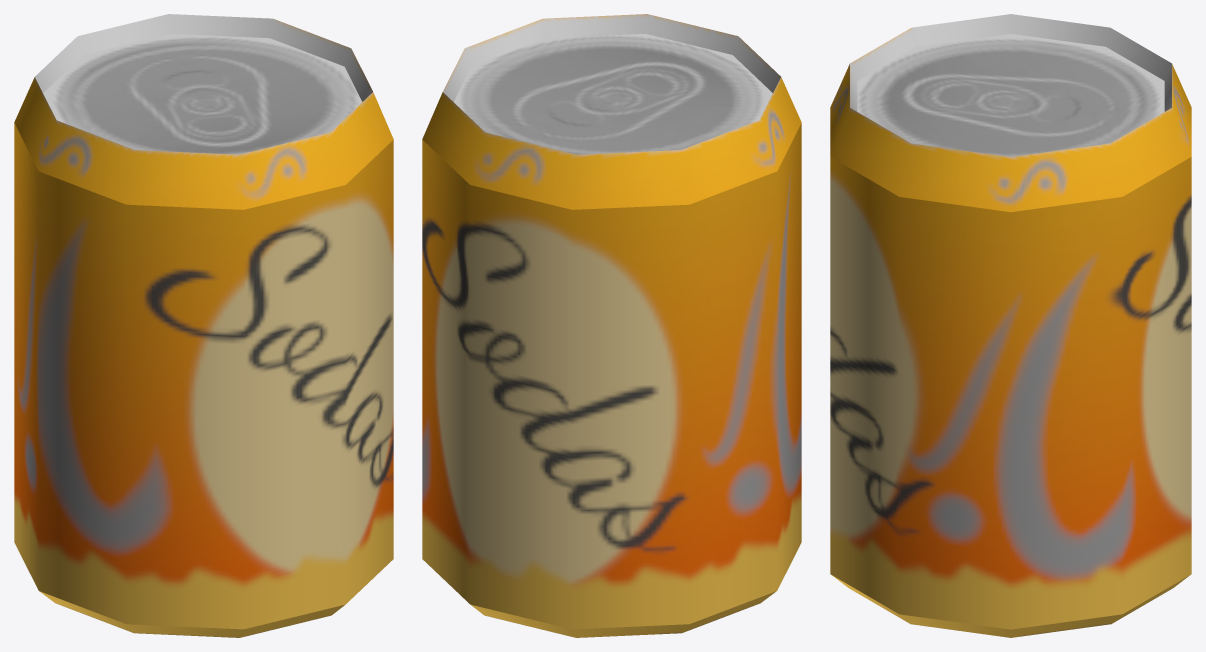
File: Orange_Soda.fbx
3 views of the same model, side by side, from view 1: azimuth 30°, elevation 25°; view 2: azimuth 150°, elevation 25°; view 3: azimuth 270°, elevation 25° (orthographic).
Visible parts, largest first — view 1: Orange_Soda; view 2: Orange_Soda; view 3: Orange_Soda.
Part boxes in pixels (x1=…): Orange_Soda: x1=14, y1=14, x2=393, y2=637; Orange_Soda: x1=422, y1=14, x2=801, y2=637; Orange_Soda: x1=830, y1=14, x2=1191, y2=637.
Size of the model in its own units: 10.26 by 14.31 by 9.76.
